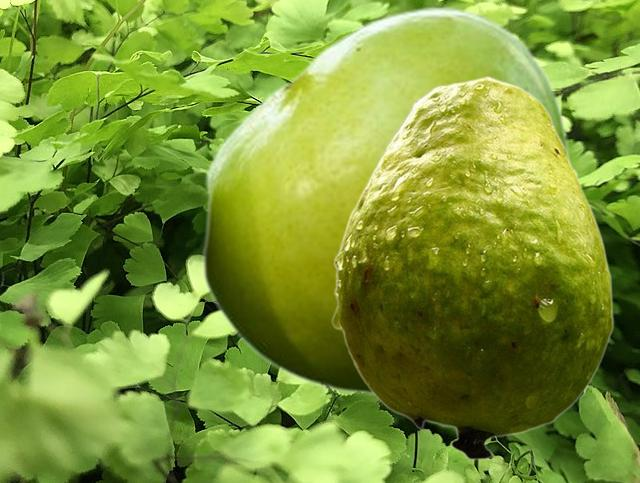guava: (200, 5, 570, 394), (331, 76, 613, 460)
